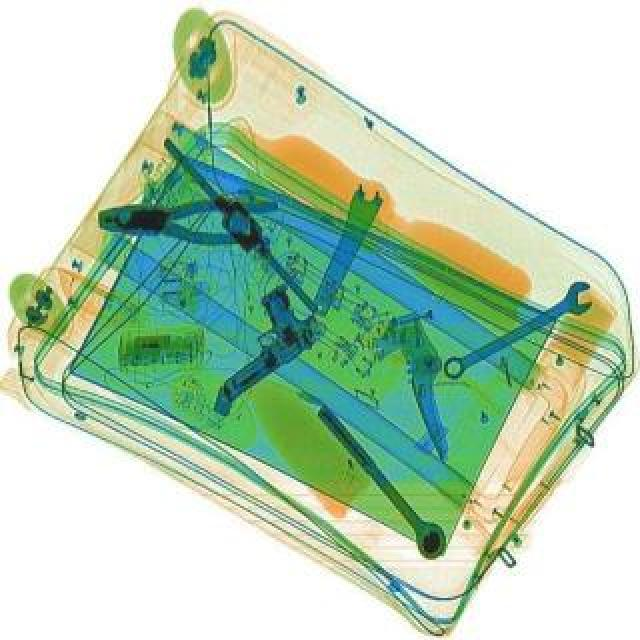gun: (184, 278, 334, 406)
scissors: (434, 276, 602, 384)
wrench: (98, 194, 278, 246)
